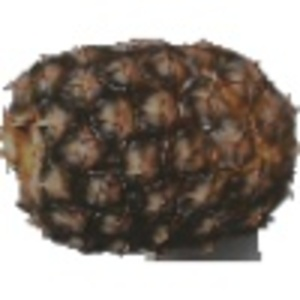abacaxi: (1, 30, 294, 252)
